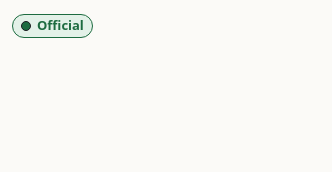
Scenario: StatusBadge › a single published figure (no parts) has no total line
The image size is (332, 172).
Step 1. Click the button → [52, 26], box [12,14,93,38]
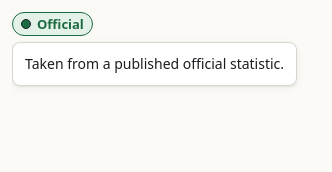
Now the element showing "Taken from a published official statistic." is shown, box [12,42,297,86]
